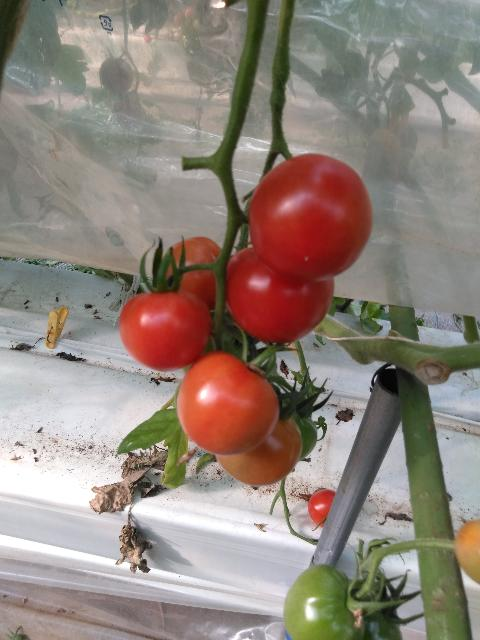l_fully_ripened: (248, 152, 374, 281), (223, 247, 335, 344), (118, 289, 213, 371), (307, 489, 337, 527)
l_green: (283, 564, 363, 640), (348, 579, 403, 640), (279, 399, 318, 463)
l_half_ripened: (176, 350, 281, 456), (214, 409, 303, 487), (161, 236, 229, 311), (454, 518, 480, 586)
